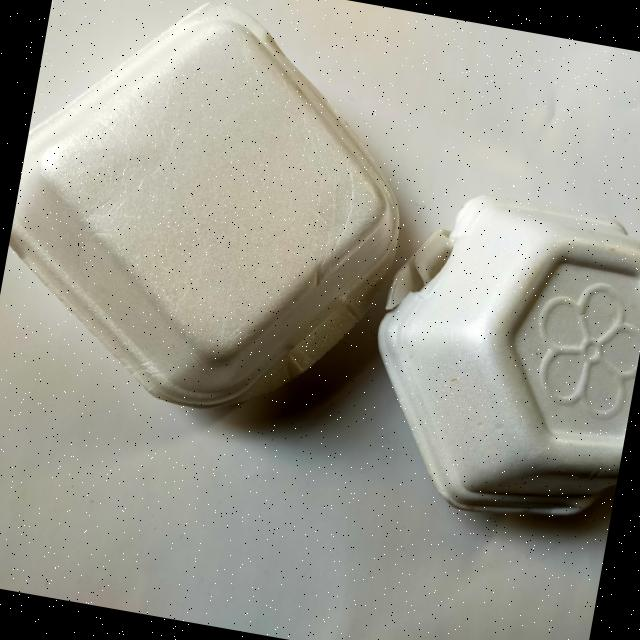styrofoam: (0, 0, 434, 437), (348, 177, 640, 536)
